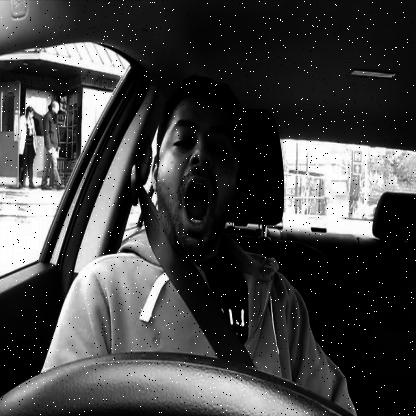seatbelt: (130, 68, 268, 410)
